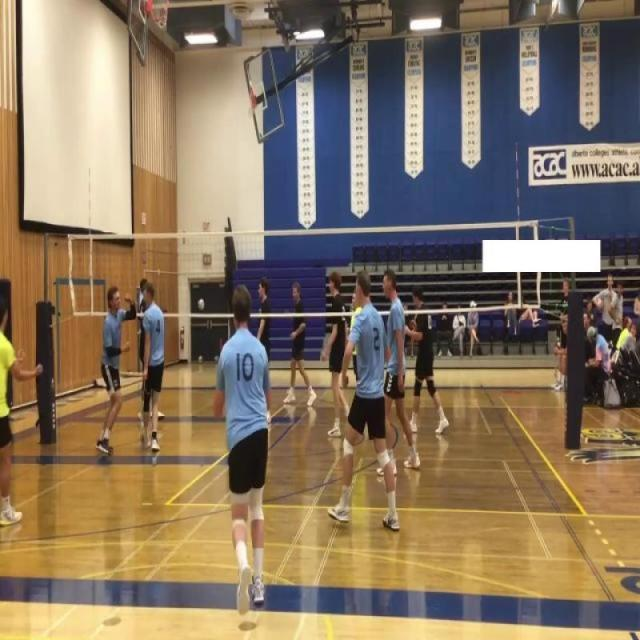volleyball: (197, 298, 205, 311)
